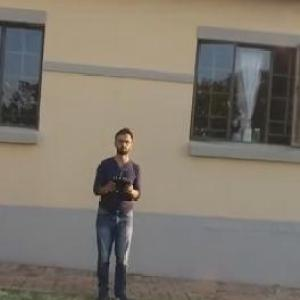follow: (84, 123, 144, 299)
